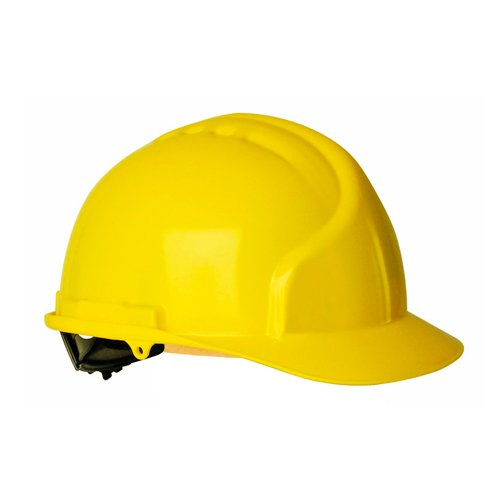casco: (42, 112, 466, 388)
